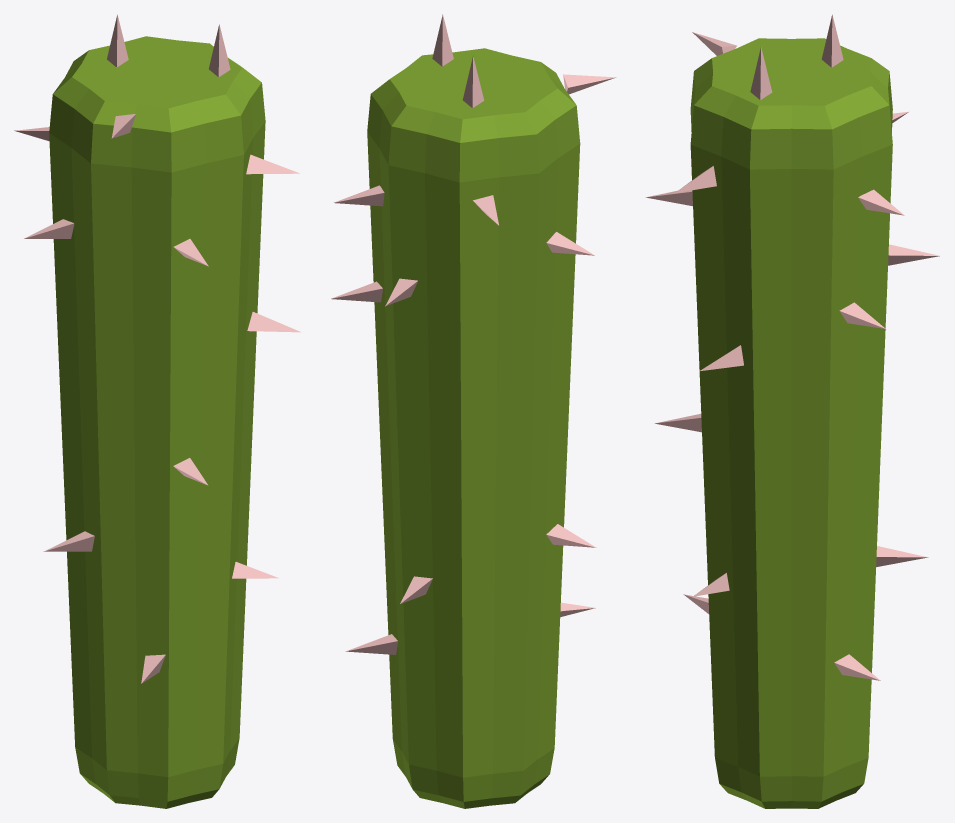
The model's file is Cactus_11_B.fbx.
3 views of the same model, side by side, from view 1: azimuth 30°, elevation 25°; view 2: azimuth 150°, elevation 25°; view 3: azimuth 270°, elevation 25° (orthographic).
Visible parts, largest first — view 1: Cactus_11_B; view 2: Cactus_11_B; view 3: Cactus_11_B.
Part boxes in pixels (x1,y1,x2,y2): Cactus_11_B: (14,14,300,808); Cactus_11_B: (331,14,616,808); Cactus_11_B: (645,14,939,808).
Bounding box in the file's own units: 72.4 × 230 × 81.19.
